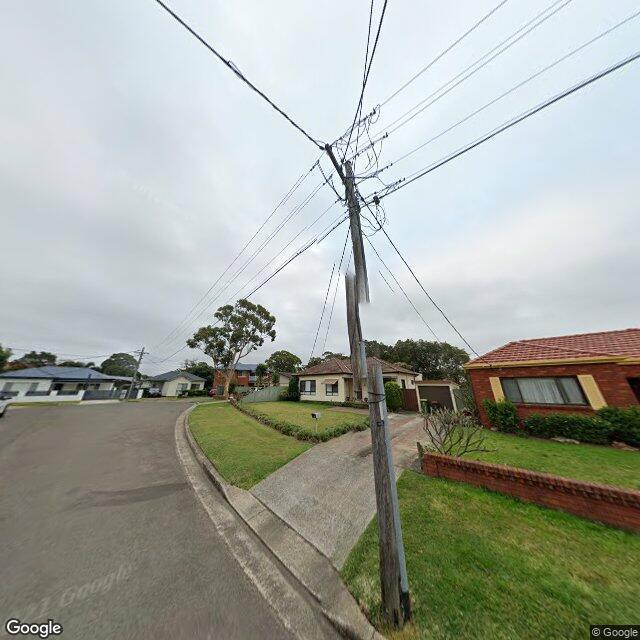crossarm: (325, 150, 361, 213), (134, 351, 149, 355)
timber-pole: (341, 159, 414, 630), (124, 347, 145, 400)
